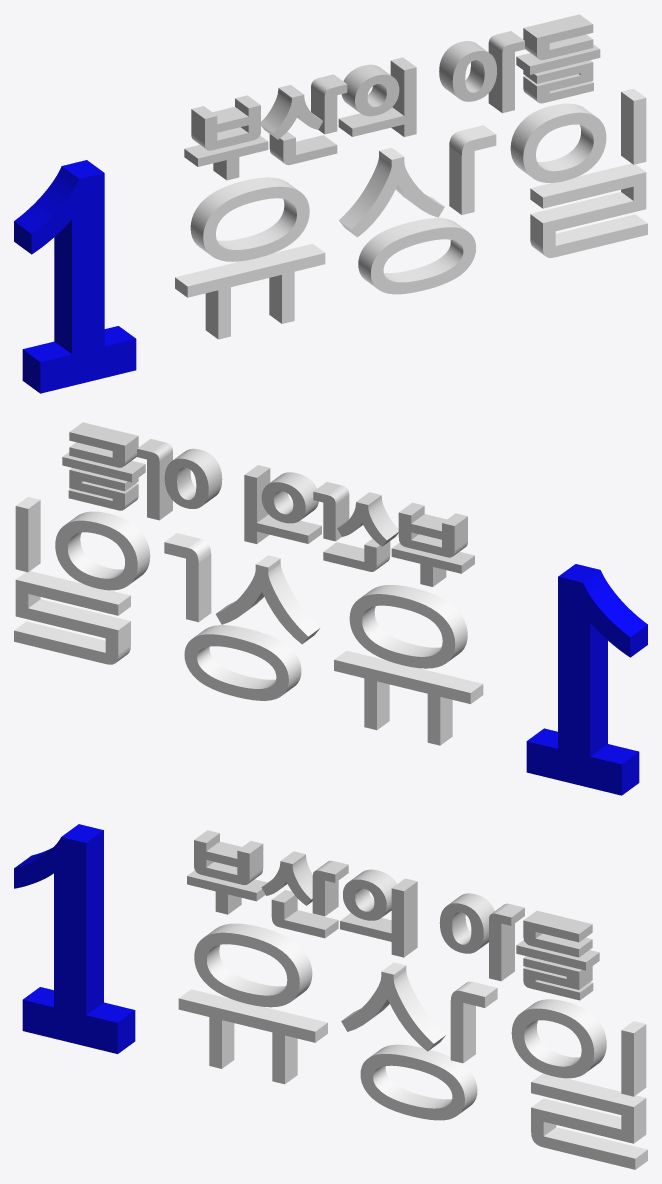
The model's file is title.fbx.
The picture shows the model from 3 angles, top to bottom: view 1: azimuth 30°, elevation 25°; view 2: azimuth 150°, elevation 25°; view 3: azimuth 330°, elevation 25°; orthographic projection.
Visible parts, largest first — view 1: TextPlus002, TextPlus003, TextPlus001; view 2: TextPlus002, TextPlus003, TextPlus001; view 3: TextPlus002, TextPlus003, TextPlus001.
Boxes of the visible parts, left/top/right/bottom form: TextPlus002: left=175, top=88, right=647, bottom=339; TextPlus003: left=184, top=14, right=600, bottom=180; TextPlus001: left=14, top=160, right=136, bottom=393; TextPlus002: left=14, top=496, right=483, bottom=745; TextPlus003: left=62, top=422, right=474, bottom=586; TextPlus001: left=526, top=564, right=647, bottom=795; TextPlus002: left=178, top=923, right=647, bottom=1169; TextPlus003: left=187, top=830, right=599, bottom=1000; TextPlus001: left=14, top=824, right=135, bottom=1053.
Bounding box in the file's own units: 60.3 × 21.51 × 2.97.
